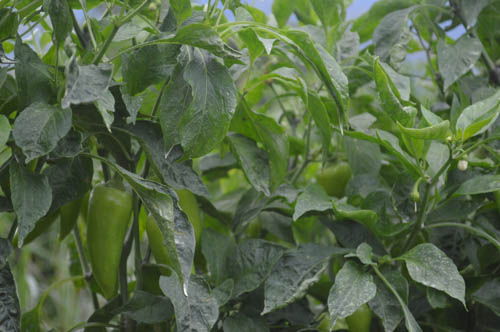ChiliPepper: (87, 183, 132, 296), (144, 211, 178, 272), (174, 184, 206, 237), (313, 163, 350, 194)
